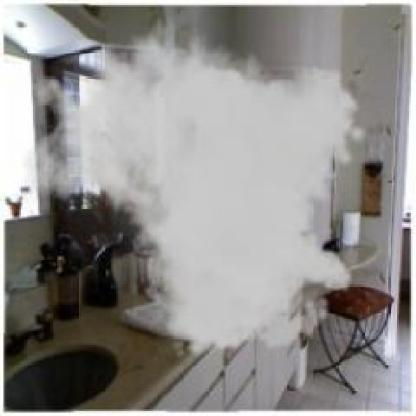Smoke: (20, 5, 368, 359)
